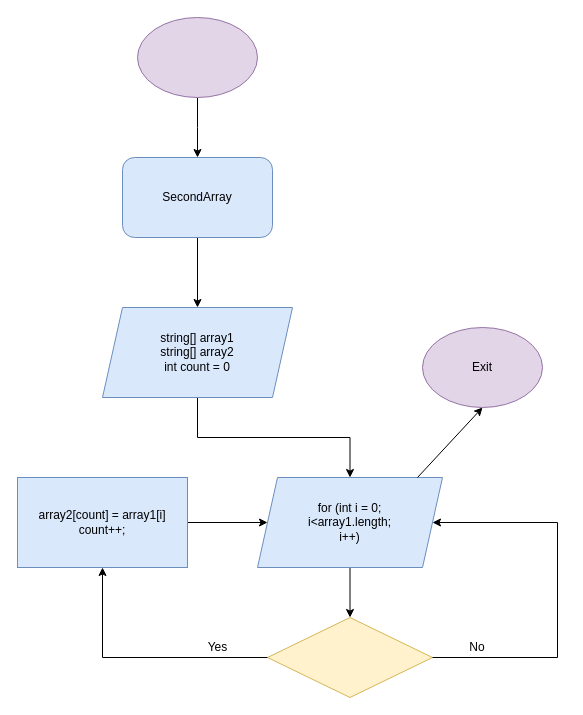
This 583x715 diagram has some shape labels left out. The shapes that lost their labels are listed below. From the top down, each one's centre as x and y in pixels, then its label:
the point at 197,57: Start
the point at 349,657: if (array1[i].length <=3)
